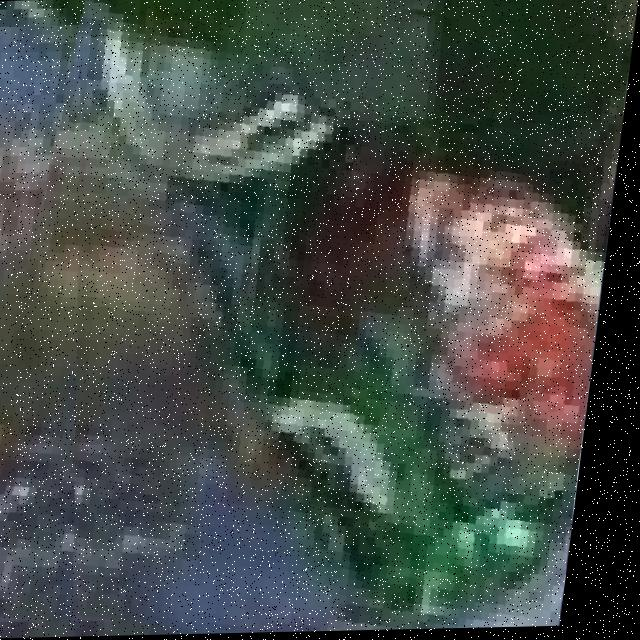can: (82, 1, 612, 633)
